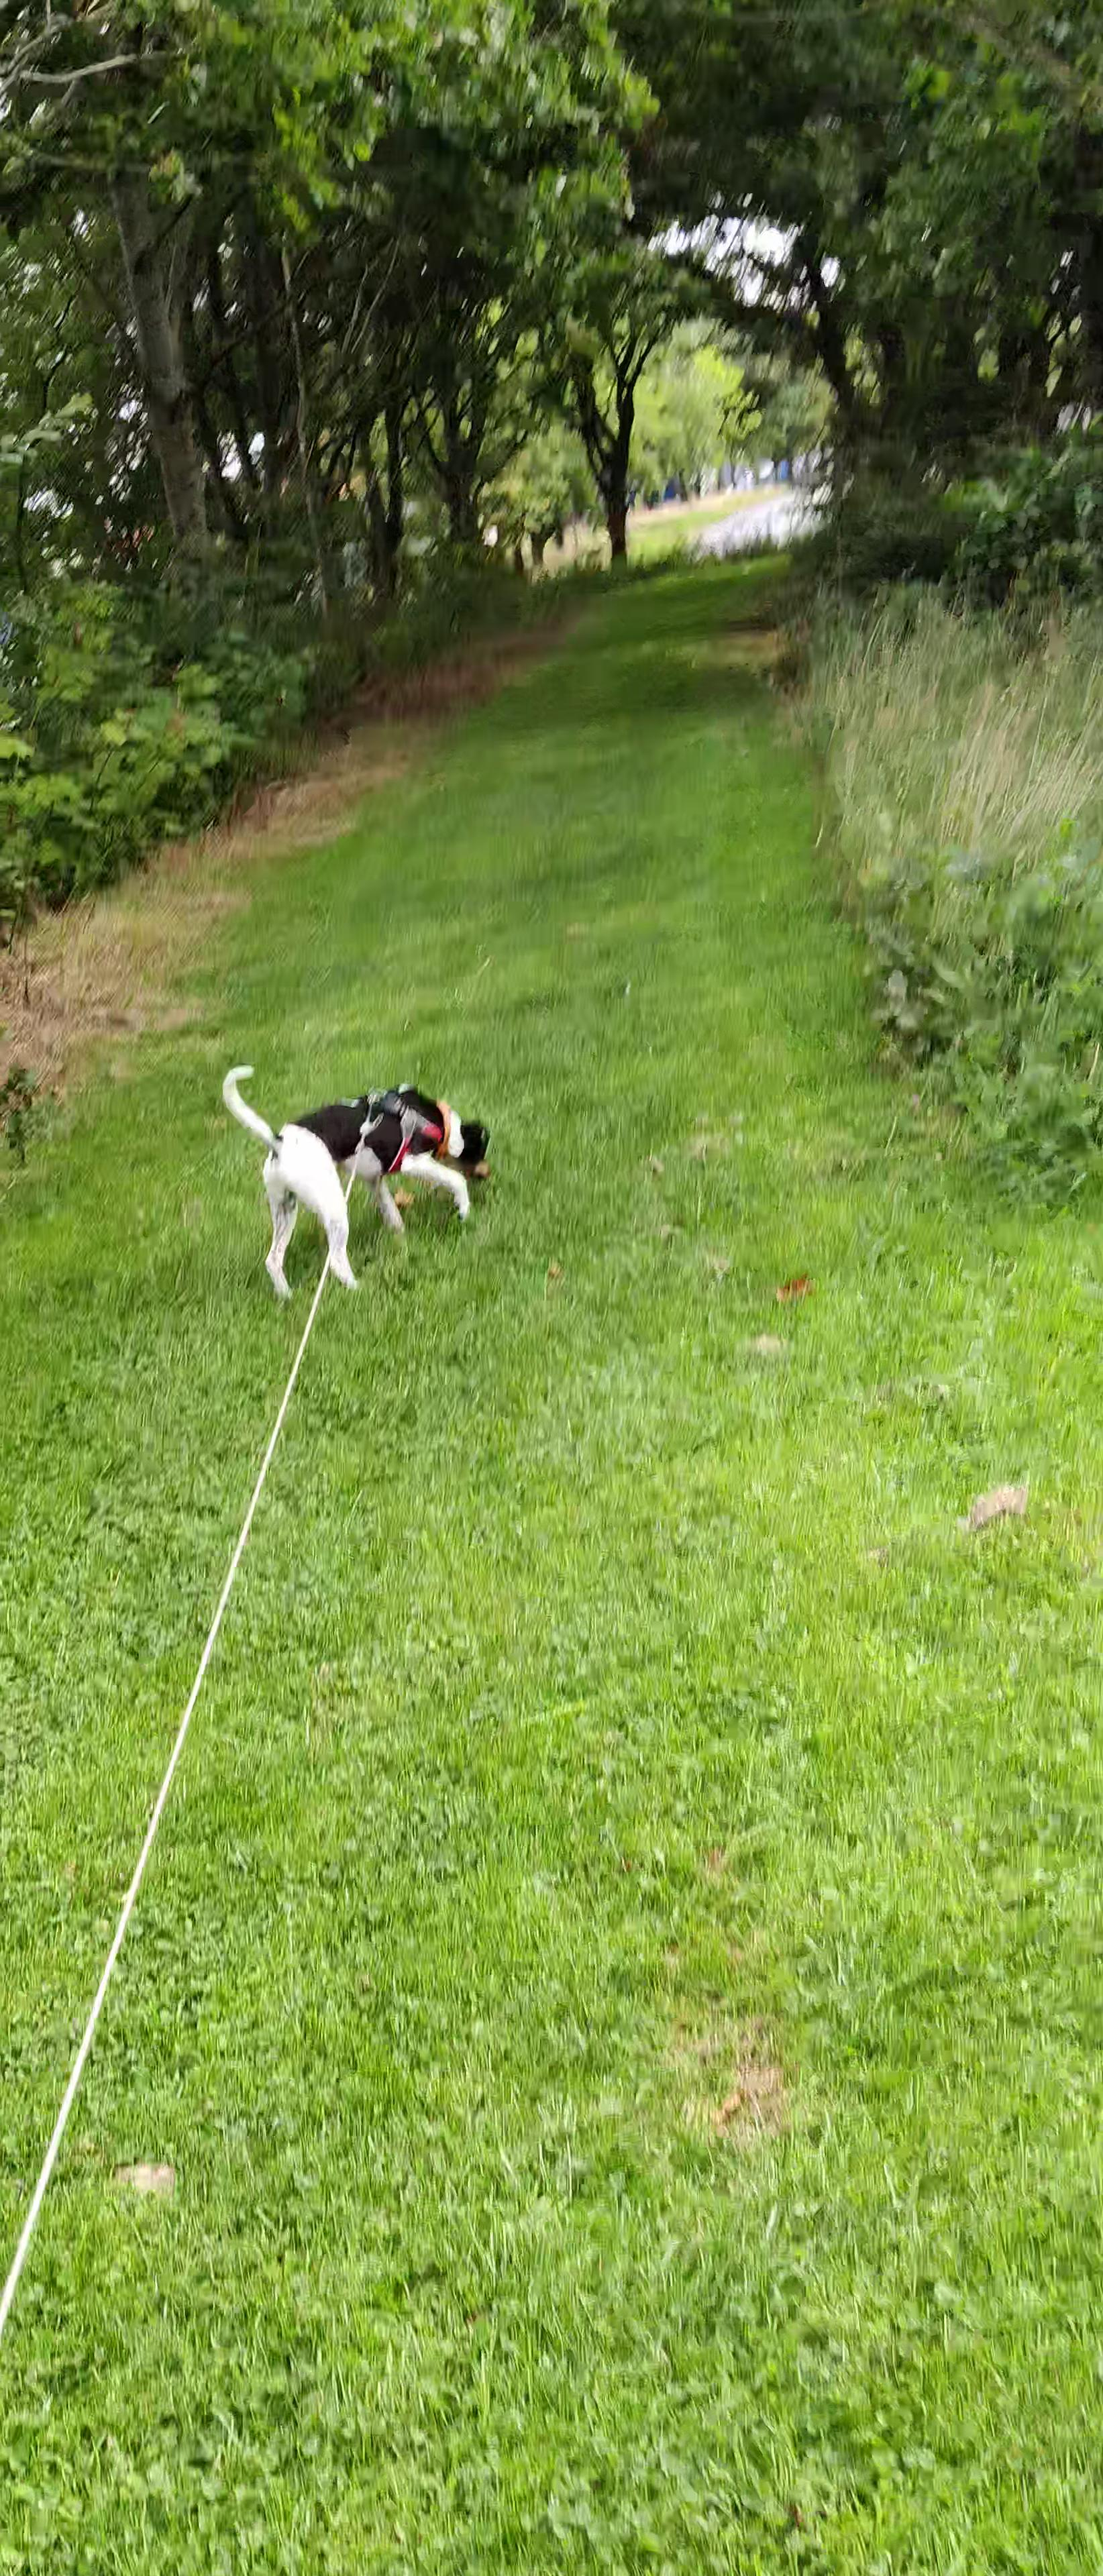Dog: (217, 1051, 508, 1306)
